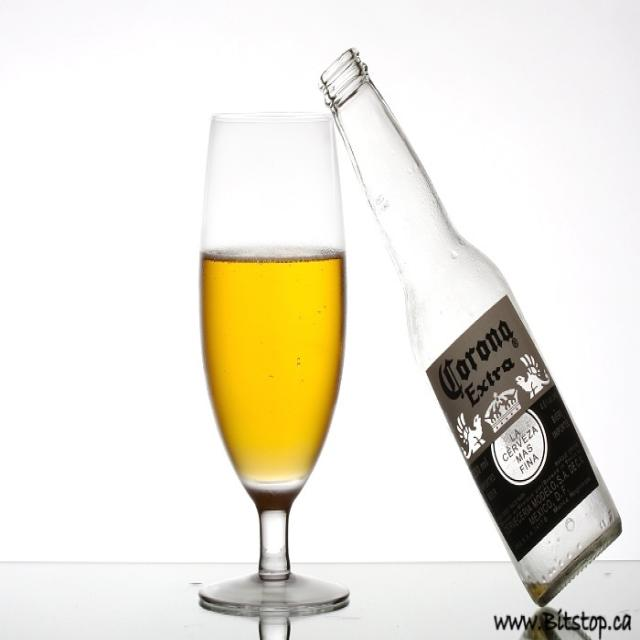corona: (427, 296, 599, 561)
